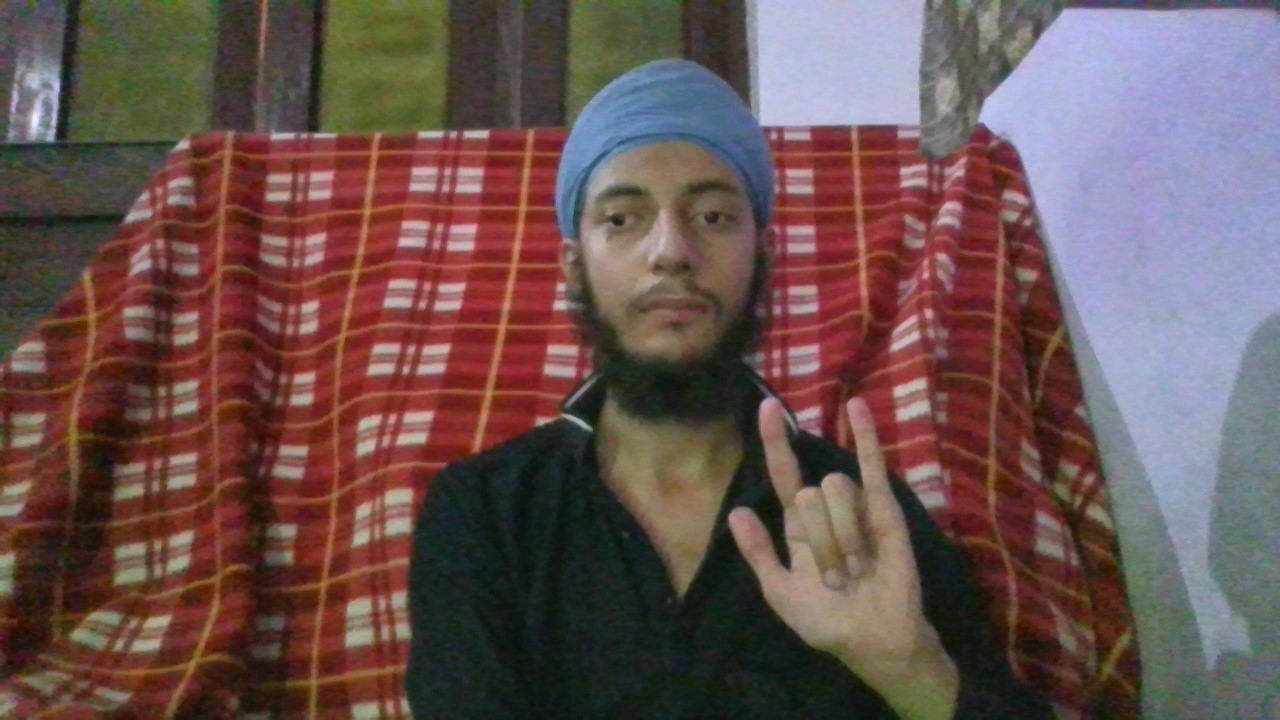I Love You: (725, 394, 924, 650)
